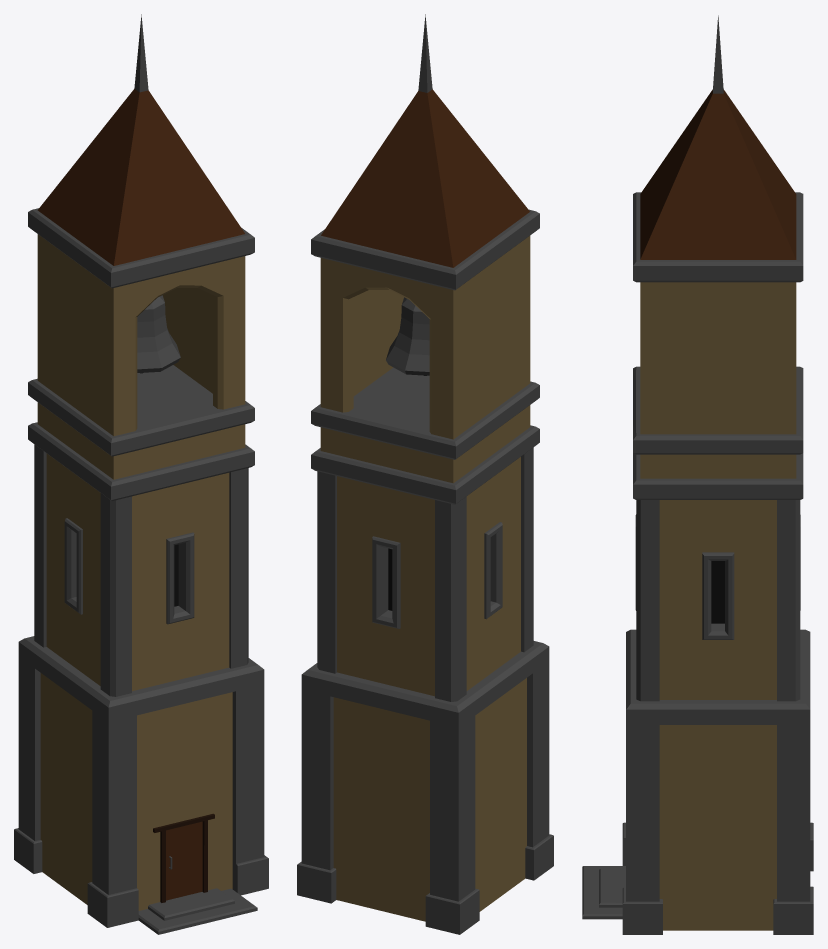
The model's file is BellTower_FBX.fbx.
3 renders of one model, left to right at view 1: azimuth 30°, elevation 25°; view 2: azimuth 150°, elevation 25°; view 3: azimuth 270°, elevation 25°, orthographic. The views are drawn at different scales.
Parts seen in each view (by area): view 1: Bell_Tower_Bottom, Bell_Tower_Top001, M_Door002, Bell001; view 2: Bell_Tower_Bottom, Bell_Tower_Top001, Bell001; view 3: Bell_Tower_Bottom, Bell_Tower_Top001.
Part boxes in pixels (box(x1,y1,x2,y2)): Bell_Tower_Bottom: box(14, 444, 268, 934); Bell_Tower_Top001: box(28, 14, 254, 500); M_Door002: box(166, 821, 202, 900); Bell001: box(137, 295, 180, 372); Bell_Tower_Bottom: box(297, 447, 553, 934); Bell_Tower_Top001: box(311, 14, 539, 504); Bell001: box(386, 297, 429, 375); Bell_Tower_Bottom: box(582, 500, 813, 934); Bell_Tower_Top001: box(633, 15, 803, 499).
Size of the model in its own units: 565 by 2876 by 686.
